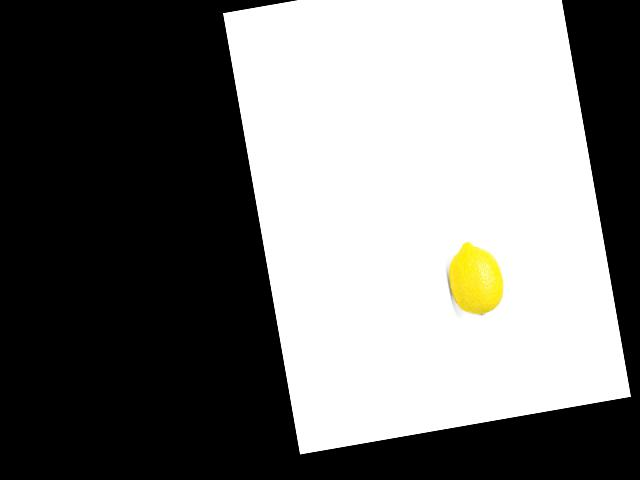lemon: (442, 234, 507, 323)
